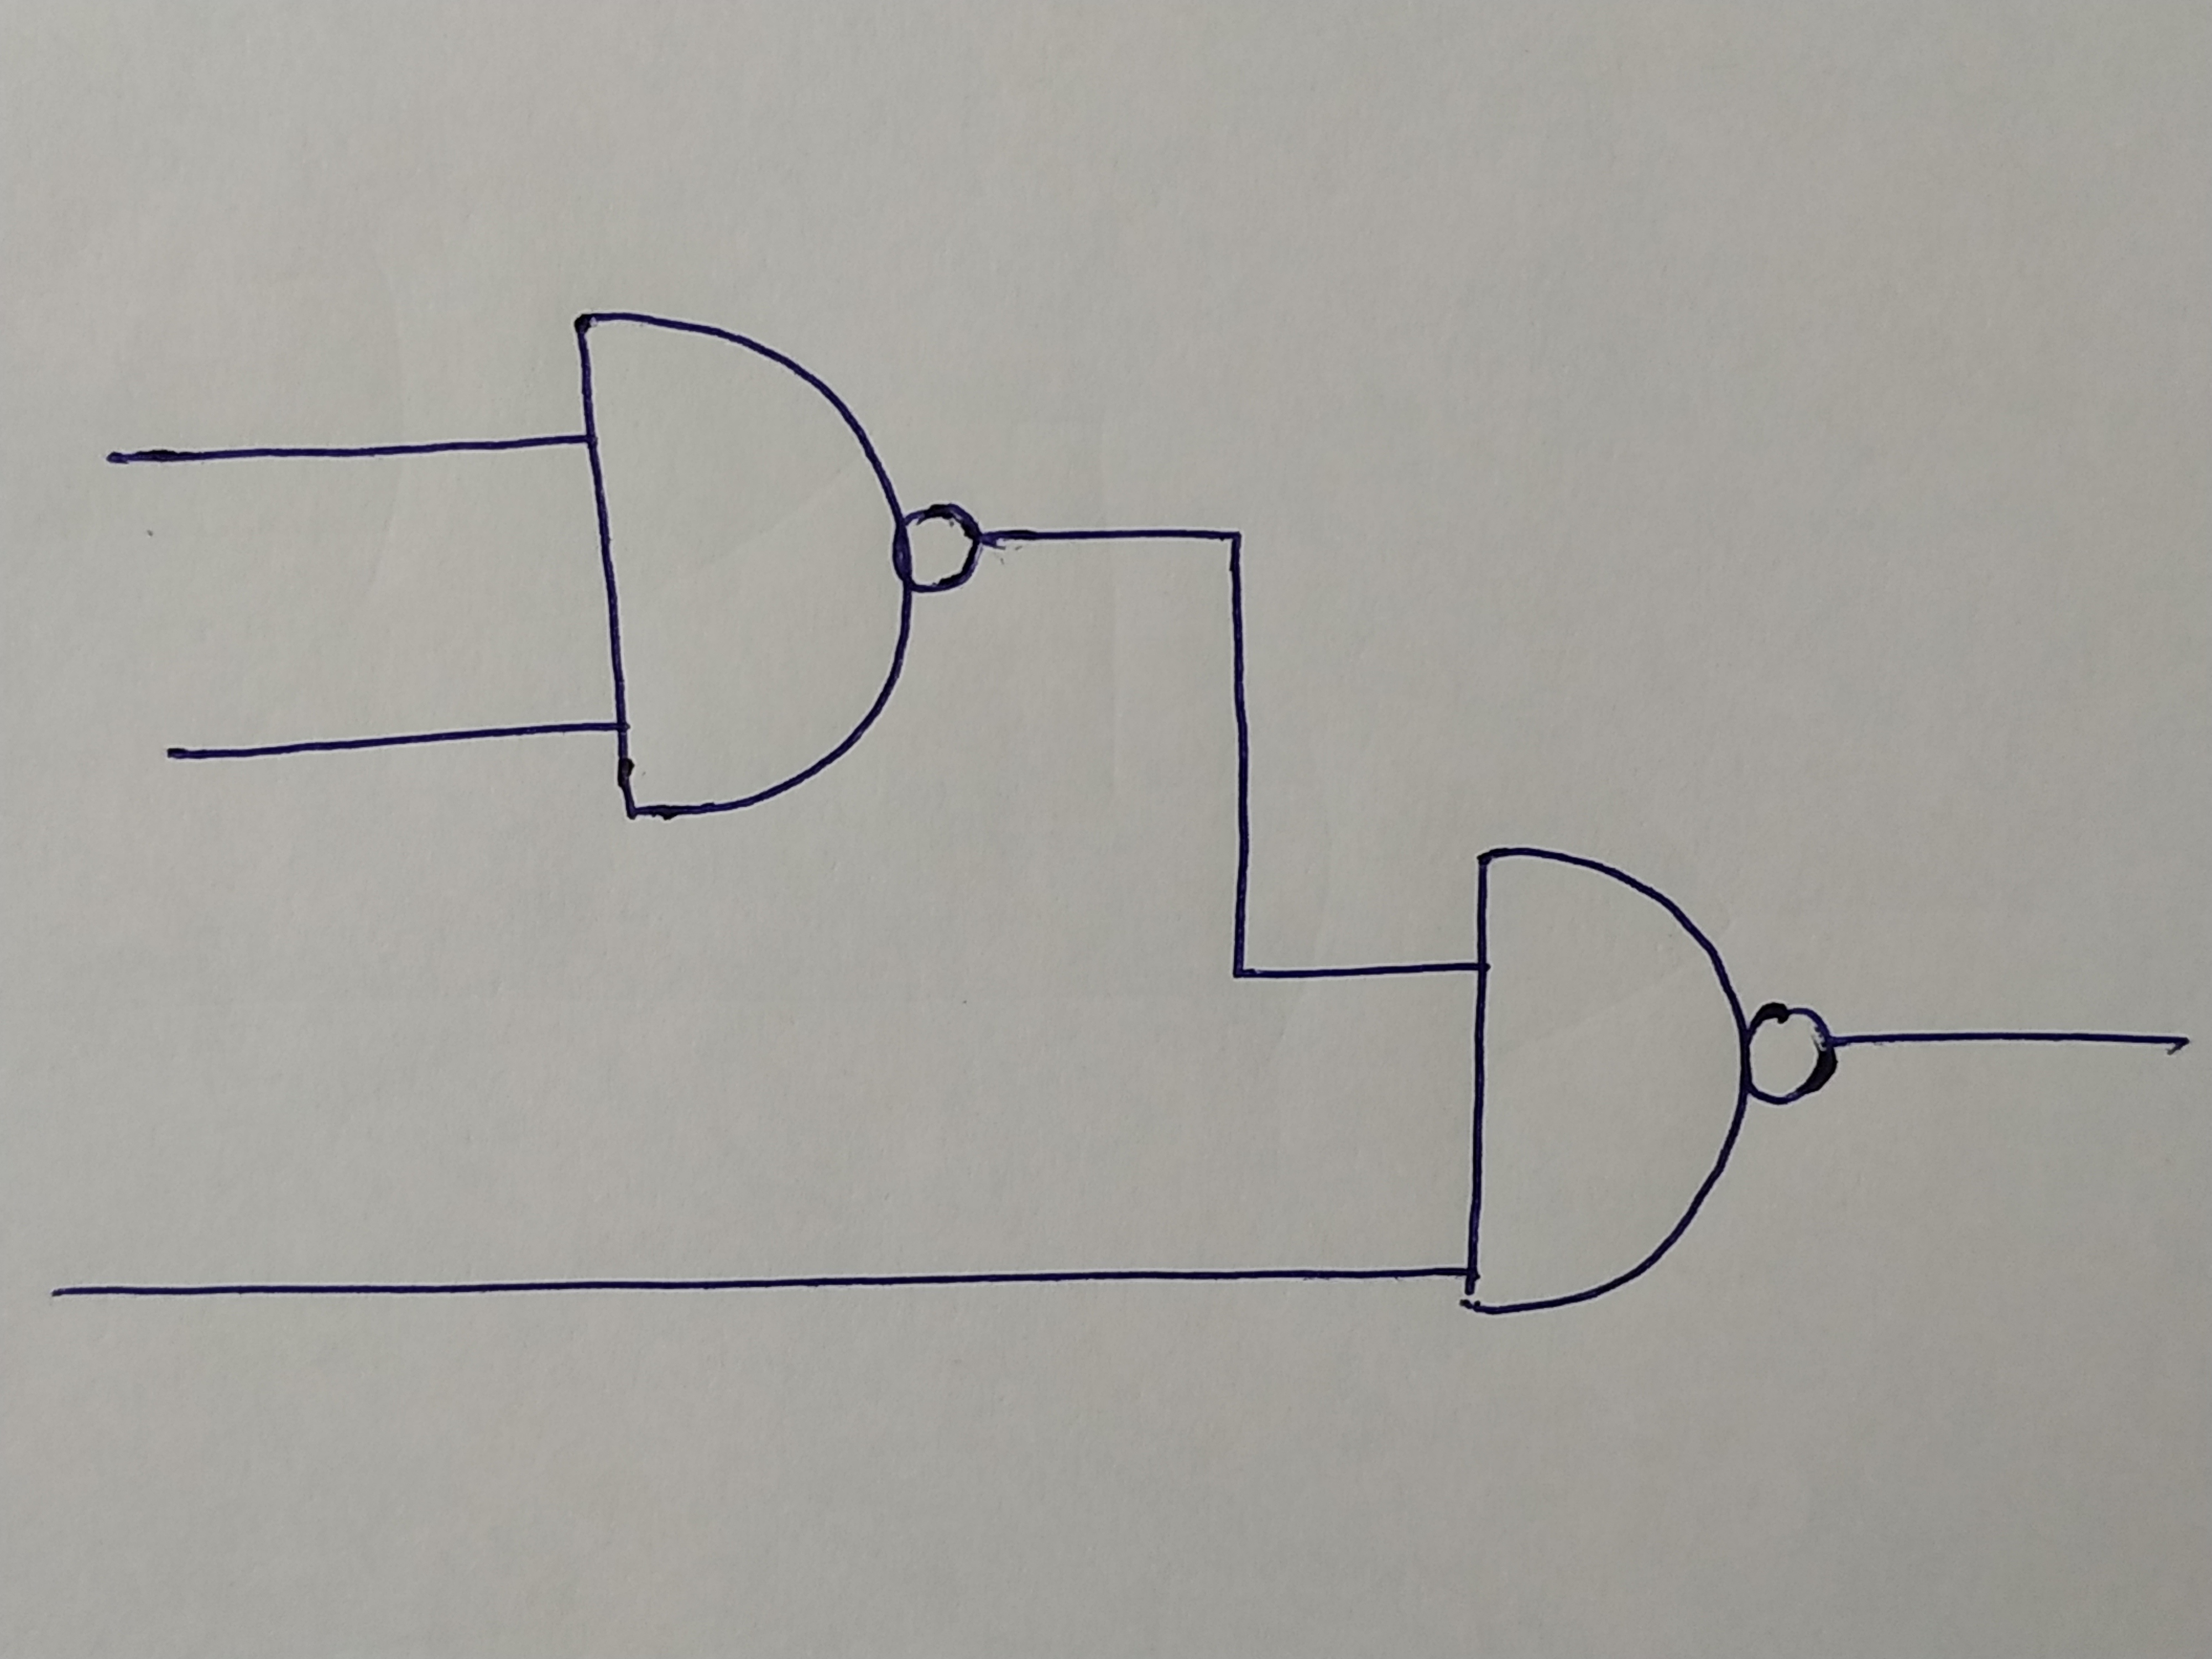and: (571, 310, 906, 819), (1461, 847, 1740, 1314)
not: (1745, 1007, 1832, 1107), (894, 502, 982, 592)
